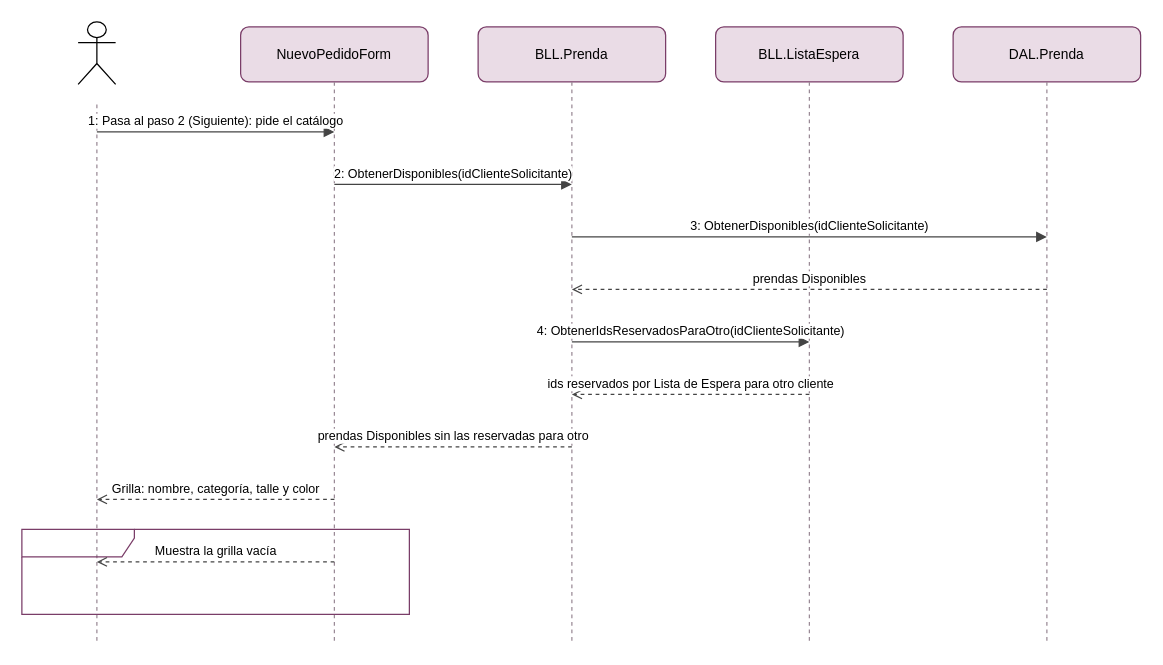
The diagram is 1163 pixels wide and 665 high, and some of its shapes have lost their labels. The centre of each missing label's shape, as x and y in pixels:
"alt [No hay prendas disponibles]" goes at point 215,571.
"Vendedor" goes at point 96,52.
